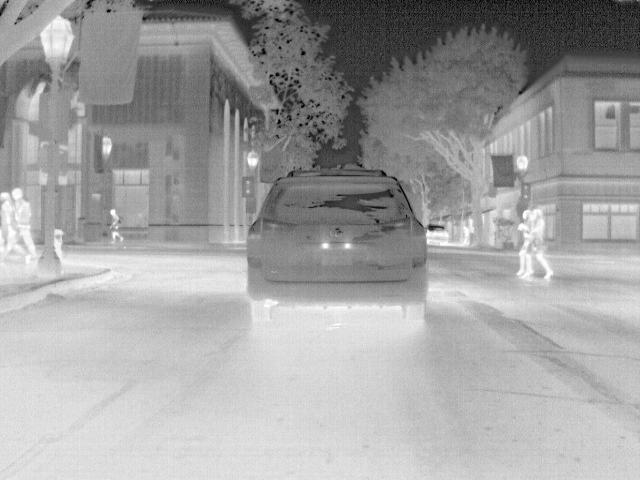car: (244, 168, 430, 324), (424, 223, 451, 245)
person: (2, 188, 40, 267), (524, 209, 554, 284), (517, 209, 532, 270), (1, 189, 16, 245), (107, 209, 125, 245)
